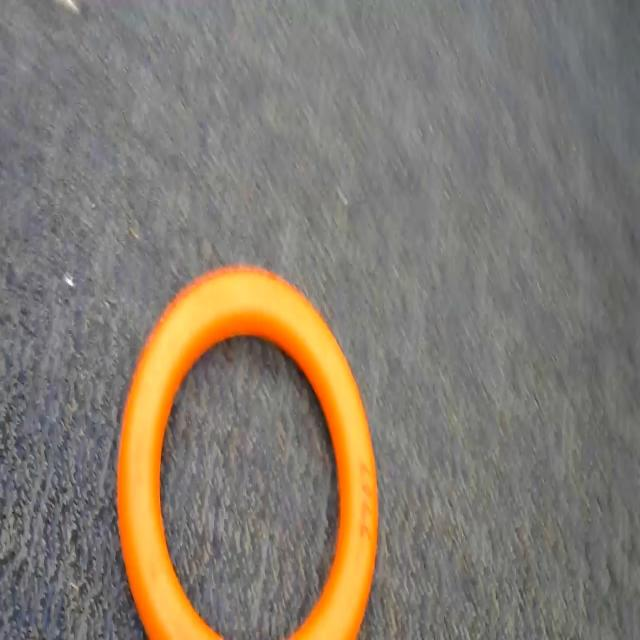note: (97, 255, 397, 640)
